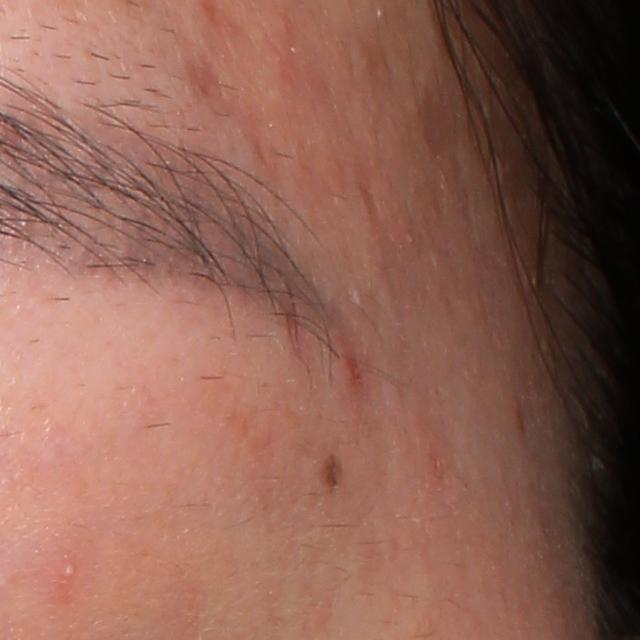nevus: (311, 451, 344, 497)
pustule: (60, 561, 78, 583)
